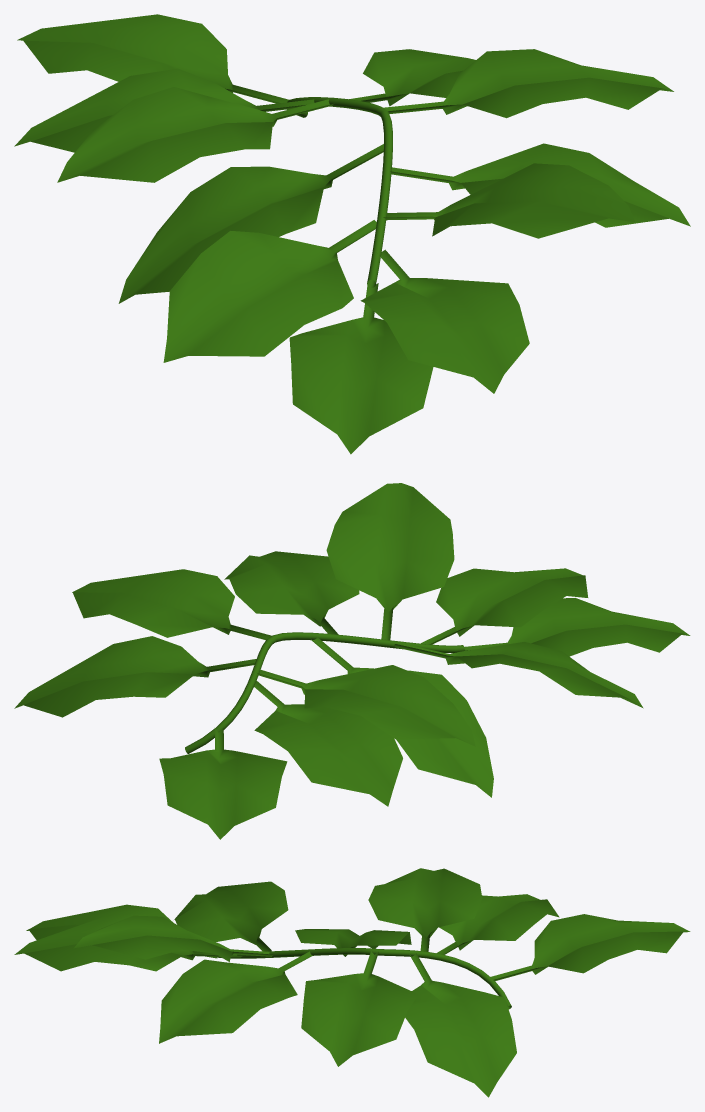
The model's file is vineSection.fbx.
3 renders of one model, top to bottom at view 1: azimuth 30°, elevation 25°; view 2: azimuth 150°, elevation 25°; view 3: azimuth 270°, elevation 25°, orthographic. The views are drawn at different scales.
Visible parts, largest first — view 1: Plane.002, Plane.006, Plane.008, Plane.004, Plane.001, Plane.009, Plane.010, Plane.003, Plane.005, Plane.007, Plane.011, BézierCurve; view 2: Plane.003, Plane.007, Plane.011, Plane.008, Plane.010, Plane.009, Plane.001, Plane.005, Plane.006, Plane.004, Plane.002, BézierCurve; view 3: Plane.011, Plane.005, Plane.010, Plane.009, Plane.008, Plane.002, Plane.003, Plane.001, Plane.007, BézierCurve, Plane.004, Plane.006.
Boxes of the visible parts, left/top/right/bottom form: Plane.002: left=163, top=220, right=376, bottom=362; Plane.006: left=289, top=283, right=433, bottom=454; Plane.008: left=57, top=87, right=334, bottom=182; Plane.004: left=118, top=144, right=383, bottom=303; Plane.001: left=360, top=249, right=529, bottom=393; Plane.009: left=17, top=14, right=289, bottom=103; Plane.010: left=383, top=49, right=673, bottom=118; Plane.003: left=383, top=163, right=634, bottom=238; Plane.005: left=390, top=143, right=690, bottom=227; Plane.007: left=14, top=68, right=314, bottom=152; Plane.011: left=349, top=49, right=475, bottom=106; BézierCurve: left=287, top=97, right=392, bottom=287; Plane.003: left=326, top=483, right=454, bottom=640; Plane.007: left=254, top=680, right=402, bottom=806; Plane.011: left=14, top=636, right=256, bottom=717; Plane.008: left=257, top=665, right=475, bottom=746; Plane.010: left=72, top=569, right=271, bottom=640; Plane.009: left=159, top=728, right=287, bottom=839; Plane.001: left=421, top=568, right=588, bottom=644; Plane.005: left=224, top=551, right=359, bottom=634; Plane.006: left=464, top=598, right=690, bottom=656; Plane.004: left=310, top=637, right=493, bottom=797; Plane.002: left=394, top=642, right=643, bottom=708; BézierCurve: left=185, top=632, right=464, bottom=753; Plane.011: left=405, top=953, right=516, bottom=1097; Plane.005: left=159, top=951, right=313, bottom=1043; Plane.010: left=301, top=951, right=418, bottom=1066; Plane.009: left=491, top=914, right=690, bottom=981; Plane.008: left=368, top=868, right=482, bottom=951; Plane.002: left=174, top=881, right=288, bottom=951; Plane.003: left=74, top=915, right=274, bottom=961; Plane.001: left=14, top=914, right=242, bottom=971; Plane.007: left=436, top=894, right=559, bottom=954; BézierCurve: left=214, top=948, right=511, bottom=1009; Plane.004: left=295, top=929, right=411, bottom=956; Plane.006: left=26, top=904, right=217, bottom=958.
Bounding box in the file's own units: 1061 × 272 × 1404.
